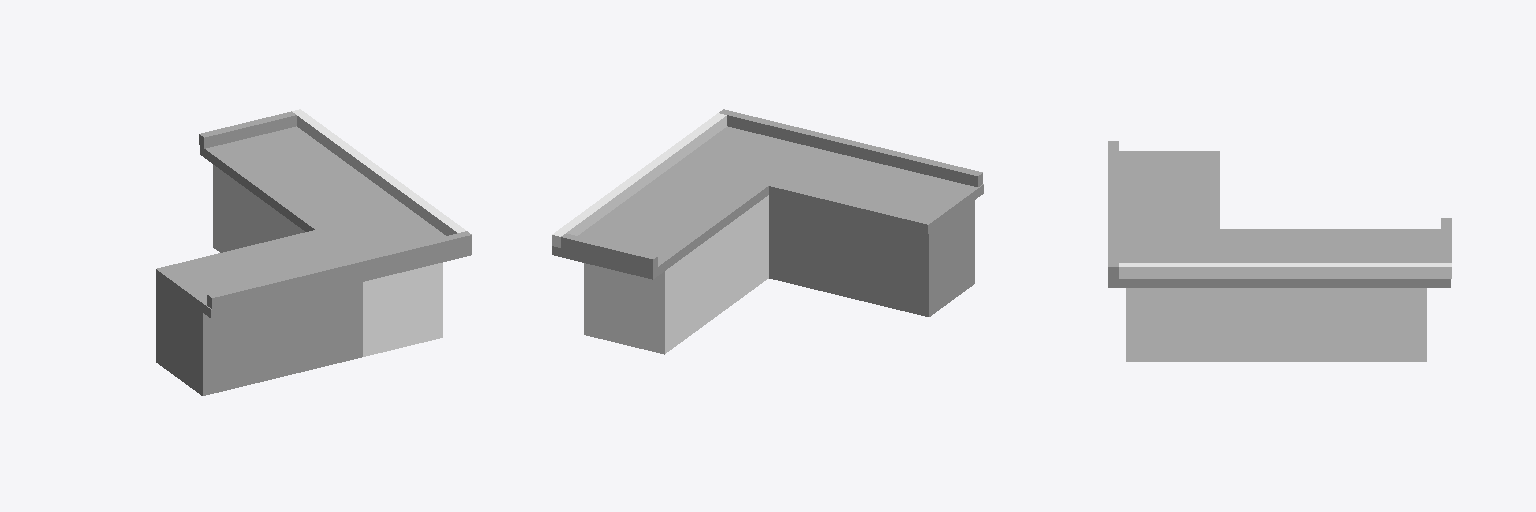
File: regii.obj
The picture shows the model from 3 angles: view 1: azimuth 30°, elevation 25°; view 2: azimuth 150°, elevation 25°; view 3: azimuth 270°, elevation 25°; orthographic projection.
Visible parts, largest first — view 1: regii; view 2: regii; view 3: regii.
Boxes of the visible parts, box(x1,y1,x2,y2) form: regii: box(156, 109, 471, 395); regii: box(552, 109, 983, 354); regii: box(1108, 141, 1451, 361).
Size of the model in its own units: 3.25 by 1.24 by 3.71.